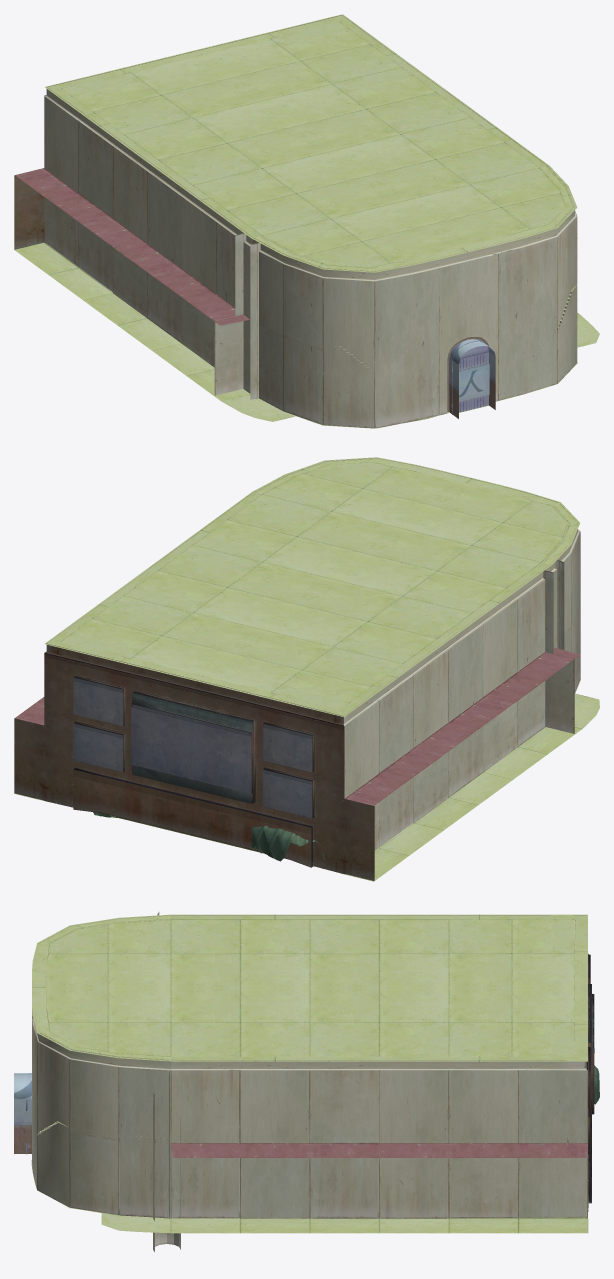
Rendered from naruto_sala_examen_chunnin.glb.
3 views of the same model, one above another, from view 1: azimuth 30°, elevation 25°; view 2: azimuth 150°, elevation 25°; view 3: azimuth 270°, elevation 25° (orthographic).
Visible parts, largest first — view 1: 24__Mesh6_Mesh6_0_1_0_0, 24_Mesh4_0_0_0, 24_Mesh3_0_0_0, 24_Mesh11_0_0_0, 24_Mesh1_0_0_0_root_root_24_Mesh1_0_0_0_root_root_0, 24_Mesh27_0_0_0, 24_Mesh23_0_0_0, 24_Mesh7_0_0_0, 24_Mesh5_0_0_0; view 2: 24__Mesh6_Mesh6_0_1_0_0, 24_Mesh5_0_0_0, 24_Mesh3_0_0_0, 24_Mesh11_0_0_0, 24_Mesh1_0_0_0_root_root_24_Mesh1_0_0_0_root_root_0, 24_Mesh27_0_0_0, 24_Mesh23_0_0_0, 24_Mesh4_0_0_0, 24_Mesh15_0_0_0; view 3: 24__Mesh6_Mesh6_0_1_0_0, 24_Mesh2_0_0_0, 24_Mesh10_0_0_0, 24_Mesh4_0_0_0, 24_Mesh1_0_0_0_root_root_24_Mesh1_0_0_0_root_root_0, 24_Mesh28_0_0_0, 24_Mesh7_0_0_0, 24_Mesh5_0_0_0, 24_Mesh24_0_0_0.
Part boxes in pixels (x1=…): 24__Mesh6_Mesh6_0_1_0_0: x1=45, y1=14, x2=577, y2=272; 24_Mesh4_0_0_0: x1=253, y1=166, x2=577, y2=428; 24_Mesh3_0_0_0: x1=44, y1=88, x2=252, y2=318; 24_Mesh11_0_0_0: x1=44, y1=169, x2=250, y2=393; 24_Mesh1_0_0_0_root_root_24_Mesh1_0_0_0_root_root_0: x1=14, y1=242, x2=599, y2=428; 24_Mesh27_0_0_0: x1=15, y1=168, x2=250, y2=325; 24_Mesh23_0_0_0: x1=214, y1=233, x2=260, y2=399; 24_Mesh7_0_0_0: x1=447, y1=337, x2=495, y2=418; 24_Mesh5_0_0_0: x1=14, y1=15, x2=341, y2=249; 24__Mesh6_Mesh6_0_1_0_0: x1=45, y1=457, x2=579, y2=716; 24_Mesh5_0_0_0: x1=14, y1=643, x2=374, y2=880; 24_Mesh3_0_0_0: x1=343, y1=565, x2=549, y2=798; 24_Mesh11_0_0_0: x1=346, y1=652, x2=545, y2=850; 24_Mesh1_0_0_0_root_root_24_Mesh1_0_0_0_root_root_0: x1=14, y1=679, x2=599, y2=881; 24_Mesh27_0_0_0: x1=345, y1=647, x2=580, y2=805; 24_Mesh23_0_0_0: x1=543, y1=560, x2=574, y2=733; 24_Mesh4_0_0_0: x1=255, y1=458, x2=580, y2=693; 24_Mesh15_0_0_0: x1=250, y1=826, x2=324, y2=863; 24__Mesh6_Mesh6_0_1_0_0: x1=32, y1=914, x2=587, y2=1061; 24_Mesh2_0_0_0: x1=171, y1=1060, x2=587, y2=1143; 24_Mesh10_0_0_0: x1=171, y1=1143, x2=587, y2=1218; 24_Mesh4_0_0_0: x1=32, y1=915, x2=170, y2=1218; 24_Mesh1_0_0_0_root_root_24_Mesh1_0_0_0_root_root_0: x1=31, y1=1160, x2=588, y2=1233; 24_Mesh28_0_0_0: x1=171, y1=1143, x2=587, y2=1157; 24_Mesh7_0_0_0: x1=14, y1=1073, x2=31, y2=1154; 24_Mesh5_0_0_0: x1=586, y1=953, x2=594, y2=1203; 24_Mesh24_0_0_0: x1=153, y1=1092, x2=180, y2=1251.
Size of the model in its own units: 5.65 by 2.81 by 7.92.
Materials: 26 (26 with a texture image).
